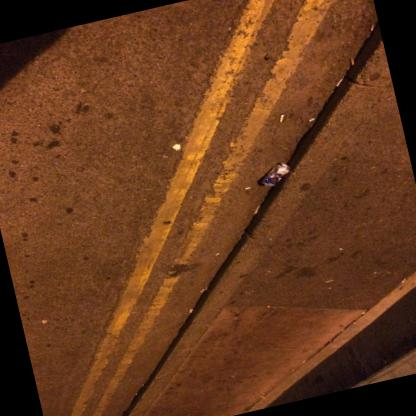Metal: (260, 162, 289, 186)
Paper: (335, 75, 343, 85), (349, 56, 353, 64), (279, 113, 283, 121), (369, 23, 373, 30), (308, 117, 314, 121), (400, 278, 405, 282), (244, 186, 250, 189)
Waste: (171, 143, 179, 150)
